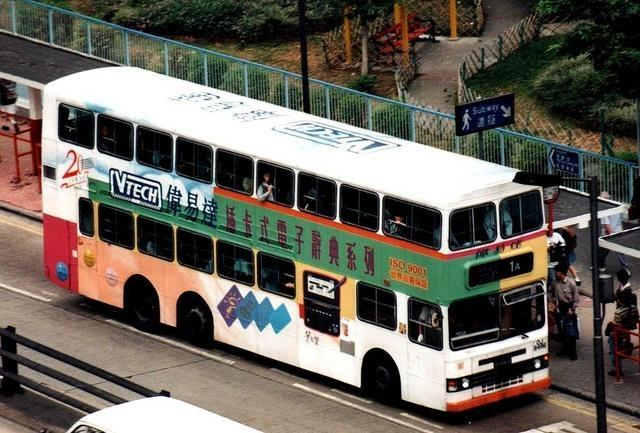bus: (39, 61, 557, 413)
